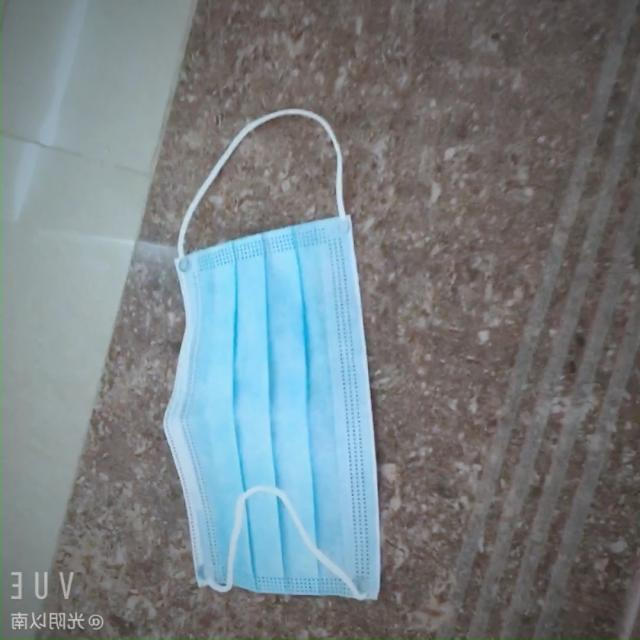face mask: (167, 213, 390, 612)
